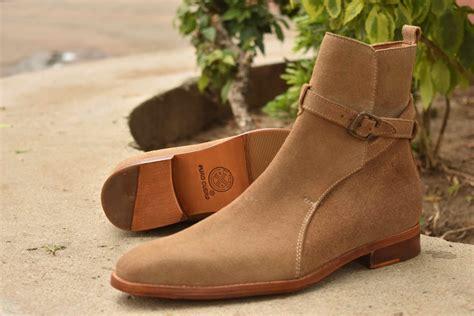gamuza: (117, 34, 422, 288)
